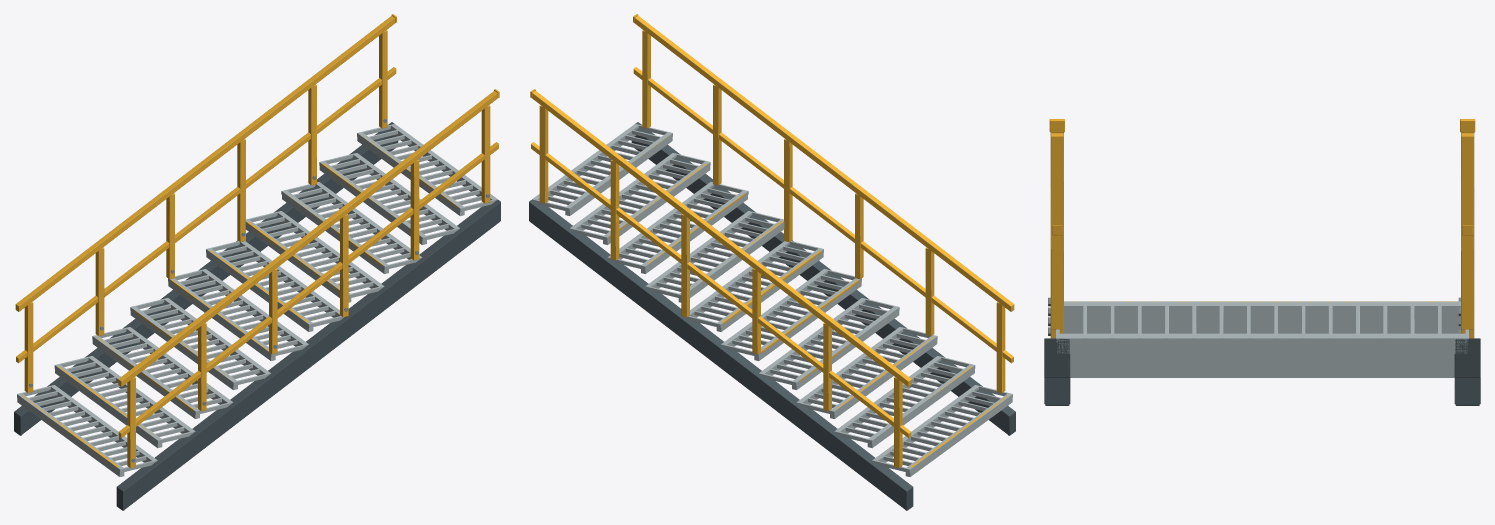
3 renders of one model, left to right at view 1: azimuth 30°, elevation 25°; view 2: azimuth 150°, elevation 25°; view 3: azimuth 270°, elevation 25°, orthographic. The views are drawn at different scales.
Visible parts, largest first — view 1: SM_NPP_Stair_4x2_Rise2_A; view 2: SM_NPP_Stair_4x2_Rise2_A; view 3: SM_NPP_Stair_4x2_Rise2_A.
Part boxes in pixels (x1,y1,x2,y2): SM_NPP_Stair_4x2_Rise2_A: [14, 14, 500, 510]; SM_NPP_Stair_4x2_Rise2_A: [529, 14, 1015, 510]; SM_NPP_Stair_4x2_Rise2_A: [1044, 119, 1480, 405].
Bounding box in the file's own units: 4 × 3.3 × 2.
